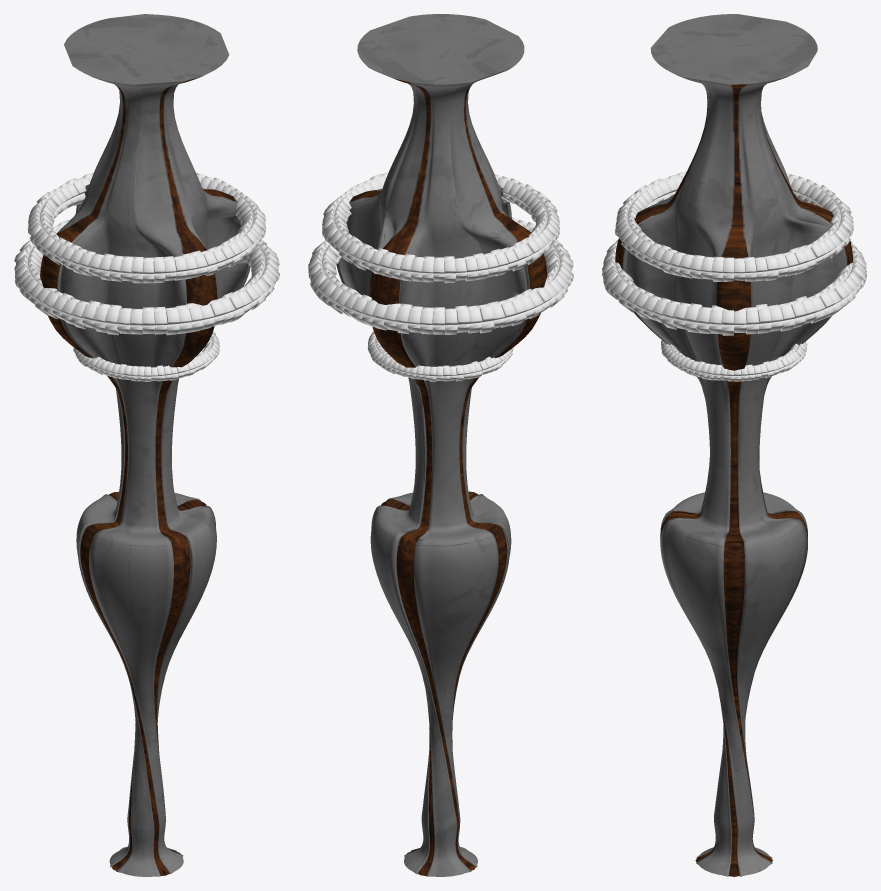
The model's file is futuristicbuilding02_v003_e.fbx.
3 renders of one model, left to right at view 1: azimuth 30°, elevation 25°; view 2: azimuth 150°, elevation 25°; view 3: azimuth 270°, elevation 25°, orthographic.
Visible parts, largest first — view 1: building, ring_top, ring_middle, ring_bottom; view 2: building, ring_middle, ring_top, ring_bottom; view 3: building, ring_top, ring_middle, ring_bottom.
Part boxes in pixels (left/top/right/bottom): building: left=40, top=14, right=250, bottom=876; ring_top: left=27, top=172, right=265, bottom=283; ring_middle: left=14, top=219, right=279, bottom=335; ring_bottom: left=73, top=331, right=219, bottom=381; building: left=336, top=14, right=547, bottom=876; ring_middle: left=308, top=217, right=573, bottom=334; ring_top: left=322, top=172, right=559, bottom=283; ring_bottom: left=367, top=331, right=513, bottom=381; building: left=615, top=14, right=852, bottom=876; ring_top: left=614, top=171, right=853, bottom=281; ring_middle: left=602, top=240, right=866, bottom=335; ring_bottom: left=661, top=340, right=807, bottom=381.
Bounding box in the file's own units: 447 × 1507 × 446.
1 material, 1 textured.
